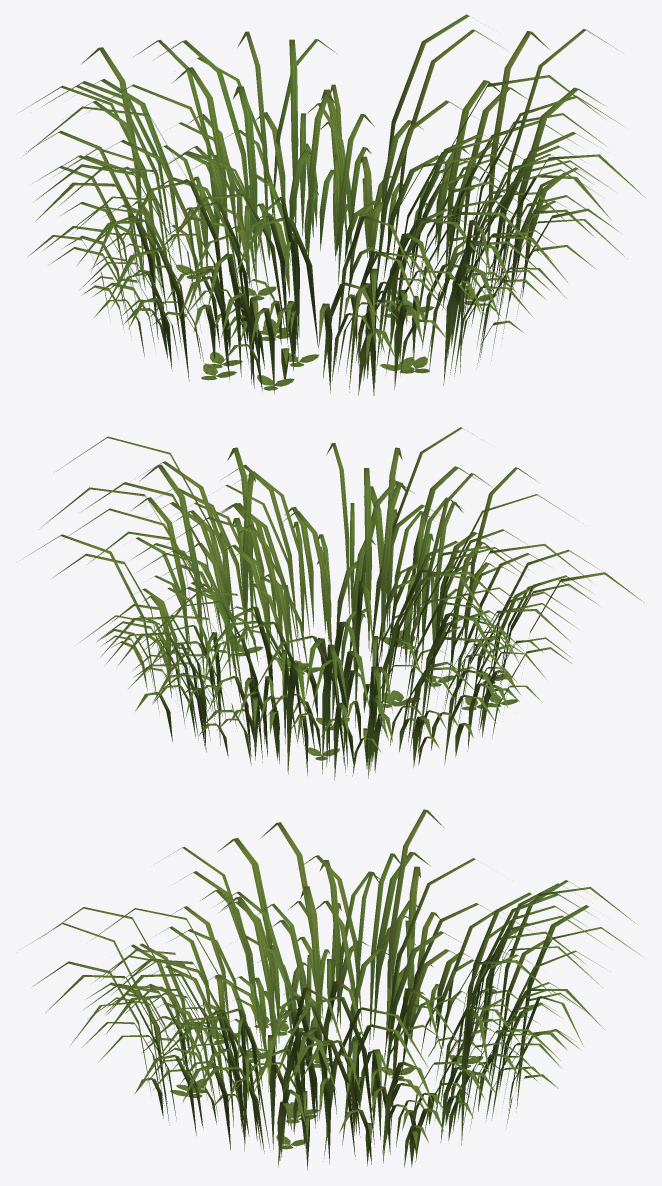
File: b-meadow.glb
3 views of the same model, one above another, from view 1: azimuth 30°, elevation 25°; view 2: azimuth 150°, elevation 25°; view 3: azimuth 270°, elevation 25° (orthographic). The views are drawn at different scales.
Parts seen in each view (by area): view 1: Foliage; view 2: Foliage; view 3: Foliage.
Boxes of the visible parts, <box> form: Foliage: <box>21,14,645,395</box>; Foliage: <box>23,427,643,780</box>; Foliage: <box>27,809,642,1170</box>.
Size of the model in its own units: 1.96 by 0.72 by 2.
Materials: 1 (1 with a texture image).
